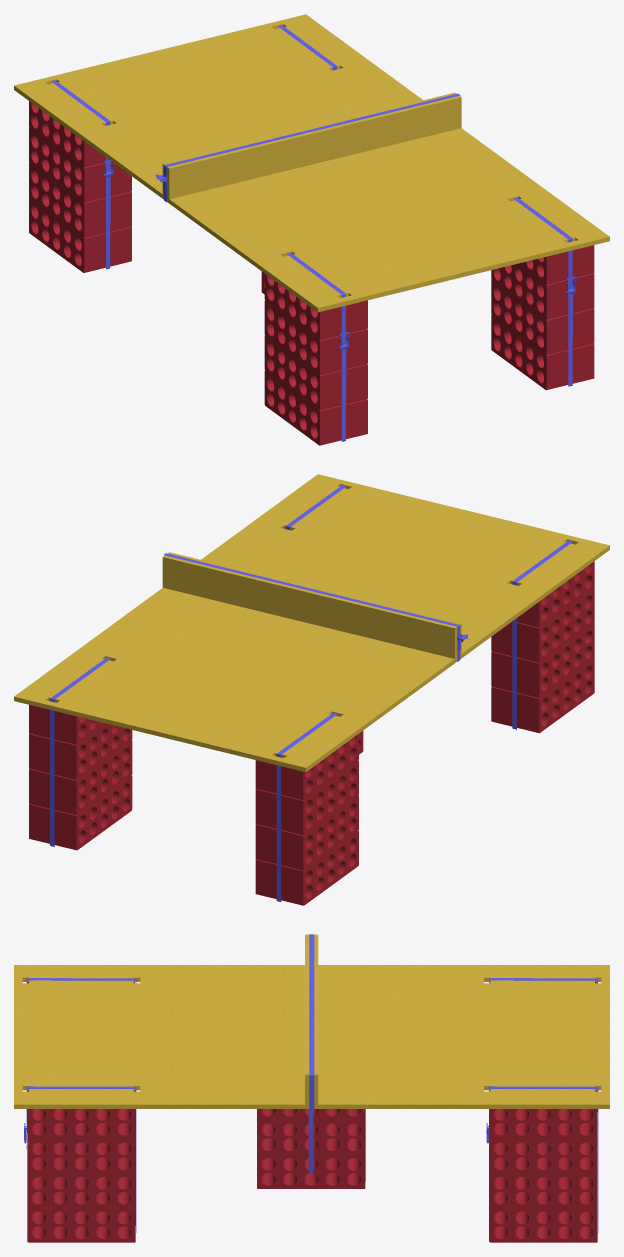
3 views of the same model, one above another, from view 1: azimuth 30°, elevation 25°; view 2: azimuth 150°, elevation 25°; view 3: azimuth 270°, elevation 25° (orthographic).
Visible parts, largest first — view 1: table tennis whole, barrière sécurité chantier.dwg#2 (×12), ratchet strap table (×3); view 2: table tennis whole, barrière sécurité chantier.dwg#2 (×12), ratchet strap table (×3); view 3: table tennis whole, barrière sécurité chantier.dwg#2 (×11), ratchet strap table (×2).
Boxes of the visible parts, x1=… form: table tennis whole: x1=14, y1=14, x2=609, y2=312; barrière sécurité chantier.dwg#2 (×12): x1=29, y1=101, x2=594, y2=445; ratchet strap table (×3): x1=51, y1=80, x2=576, y2=441; table tennis whole: x1=14, y1=474, x2=609, y2=772; barrière sécurité chantier.dwg#2 (×12): x1=29, y1=561, x2=594, y2=905; ratchet strap table (×3): x1=50, y1=540, x2=572, y2=901; table tennis whole: x1=14, y1=934, x2=609, y2=1173; barrière sécurité chantier.dwg#2 (×11): x1=27, y1=1090, x2=597, y2=1242; ratchet strap table (×2): x1=24, y1=1086, x2=598, y2=1232.
Bounding box in the file's own units: 1.57 × 0.8811 × 2.74.
3 materials, 1 textured.
